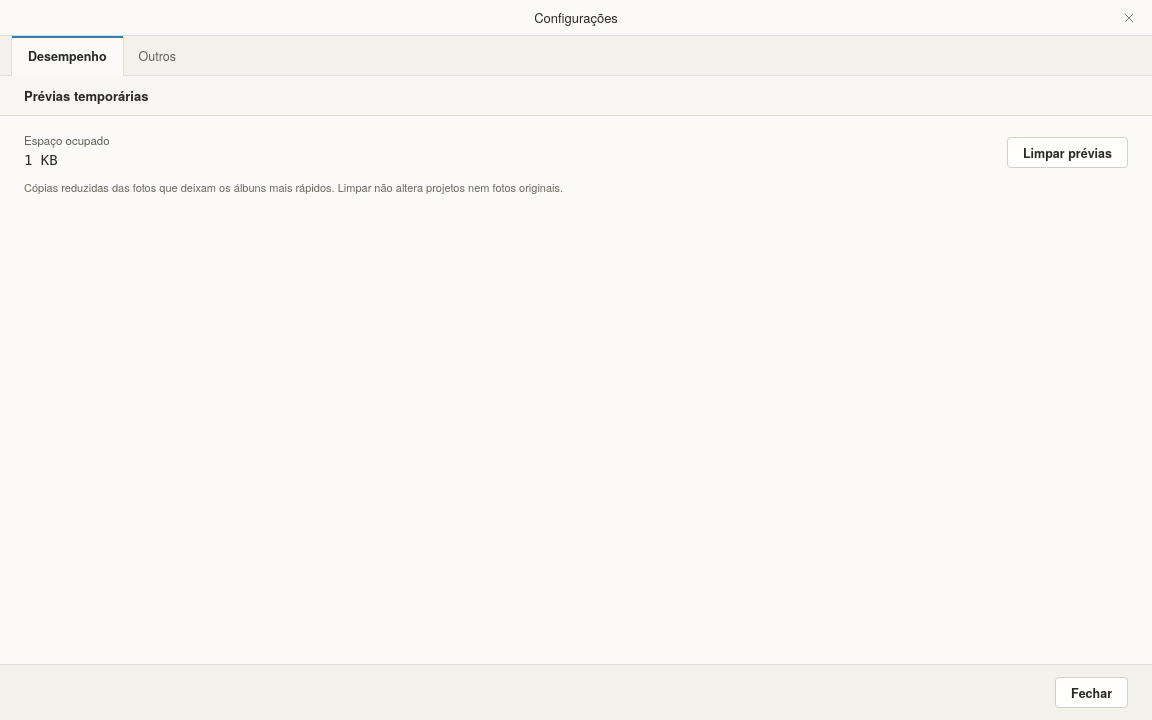
Test: dismissing the cache confirmation with outside never requests cleanup
Click the button "Limpar prévias".
click(1067, 152)  # box x1=1007 y1=137 x2=1128 y2=168
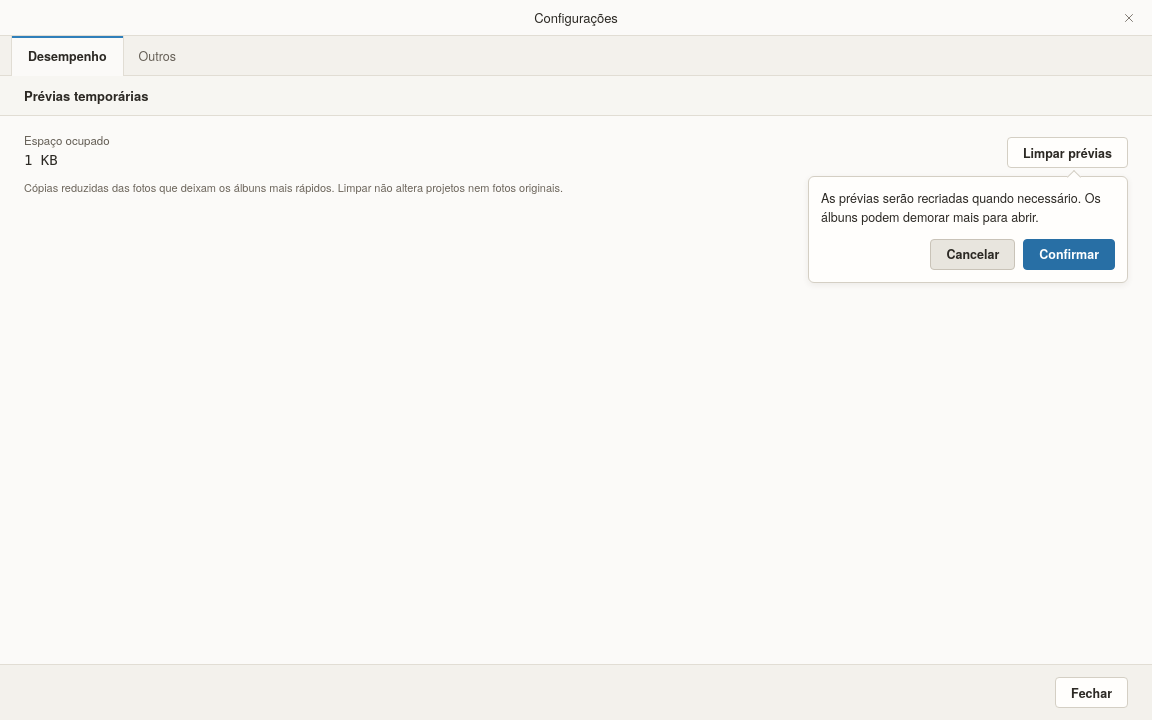
Expected: the text "Espaço ocupado" is shown, x1=24 y1=132 x2=110 y2=148
Expected: the dialog named "Confirmar limpeza das prévias temporárias" is shown, x1=808 y1=176 x2=1128 y2=282
Press the mouse on the tab "Outros" at (157, 56), box x1=123 y1=36 x2=192 y2=76
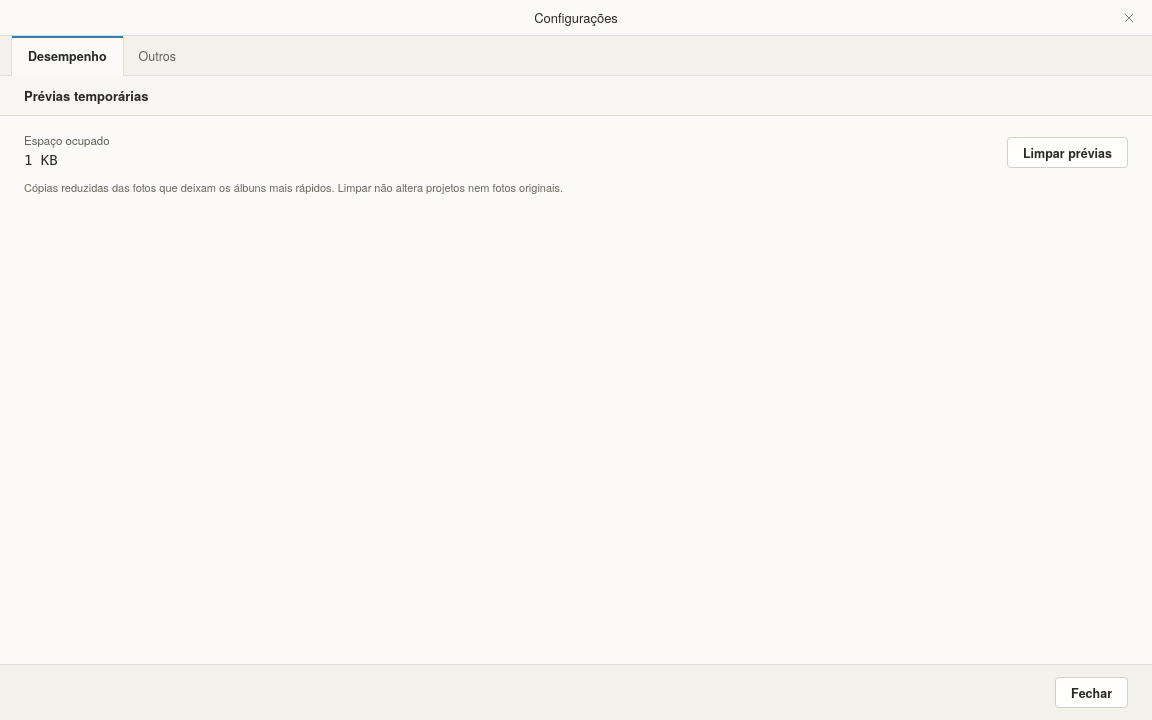
Expected: the dialog is gone
